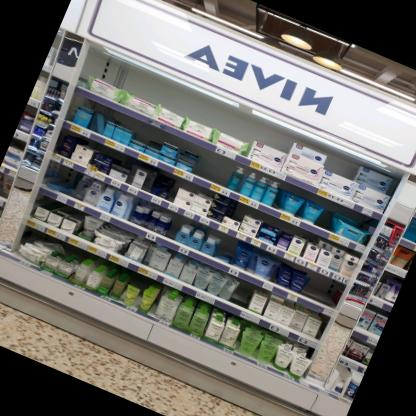empty_space: (191, 148, 234, 186), (298, 271, 337, 306), (230, 279, 255, 308), (312, 204, 334, 231), (163, 213, 183, 240), (164, 178, 182, 202)
